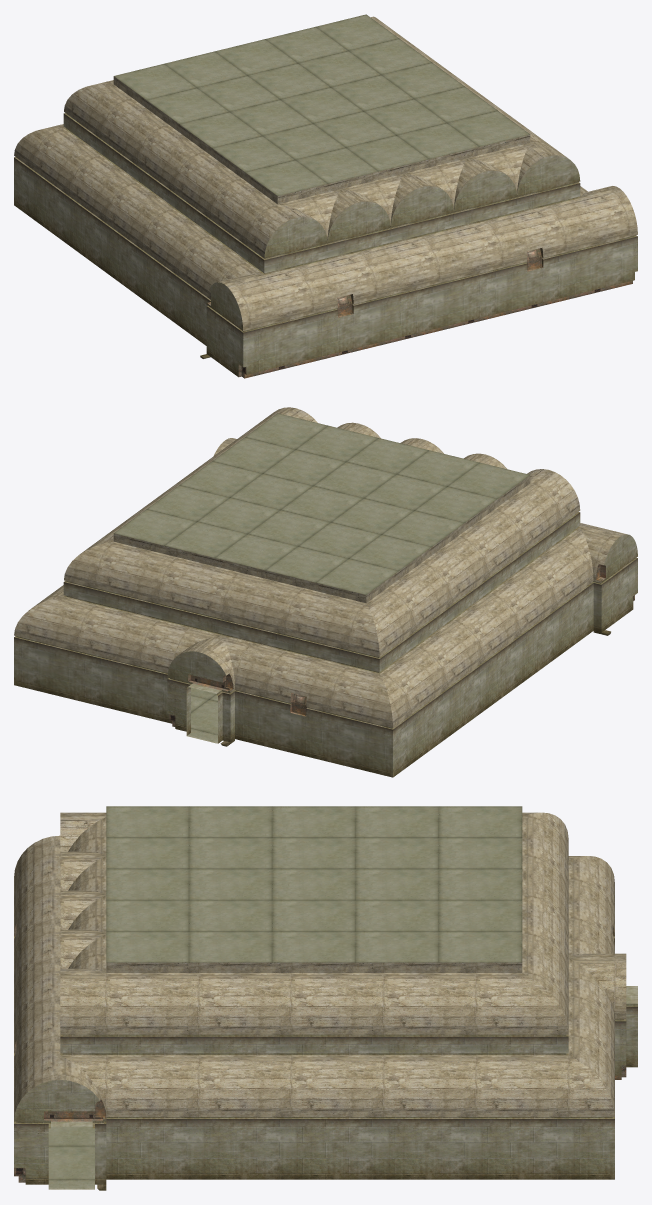
The model's file is poi_all_bunker_mad_bio_s01_r5_assistant_armory_mesh_r5.fbx.
The picture shows the model from 3 angles, top to bottom: view 1: azimuth 30°, elevation 25°; view 2: azimuth 150°, elevation 25°; view 3: azimuth 270°, elevation 25°; orthographic projection. The views are drawn at different scales.
Visible parts, largest first — view 1: mesh_node; view 2: mesh_node; view 3: mesh_node.
Boxes of the visible parts, left/top/right/bottom form: mesh_node: left=14, top=14, right=637, bottom=378; mesh_node: left=14, top=407, right=637, bottom=777; mesh_node: left=14, top=806, right=637, bottom=1190.
Size of the model in its own units: 25.9 by 8.6 by 27.
